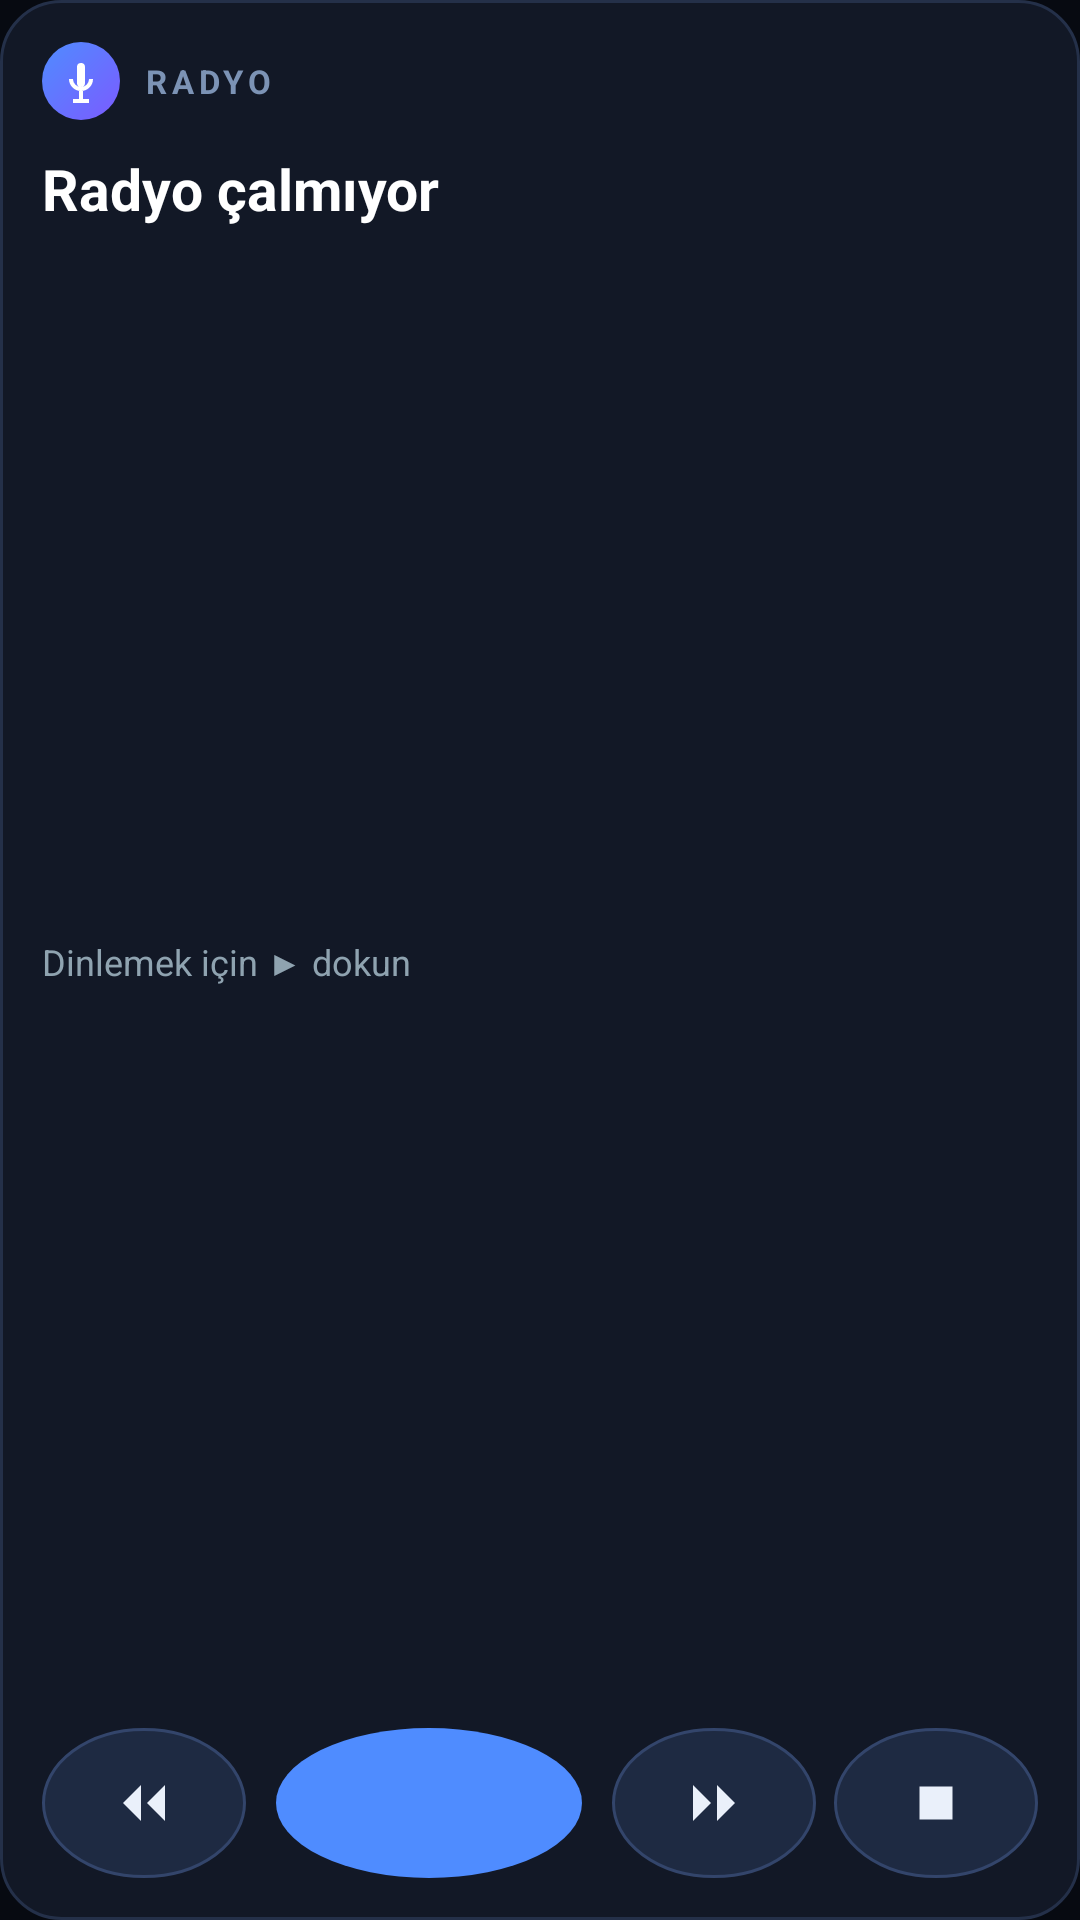

Icons on this 1080px x 1920px Android screen, each with the point to tap as [x,y]:
brand mic: [81,81]
Radyoyu durdur: [936,1803]
Sonraki radyo: [714,1803]
Önceki radyo: [144,1803]
